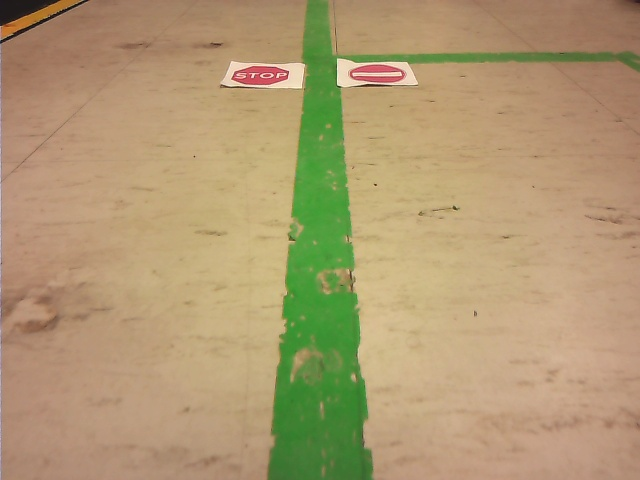NO ENTRY: (349, 64, 407, 83)
STOP: (231, 66, 290, 85)
